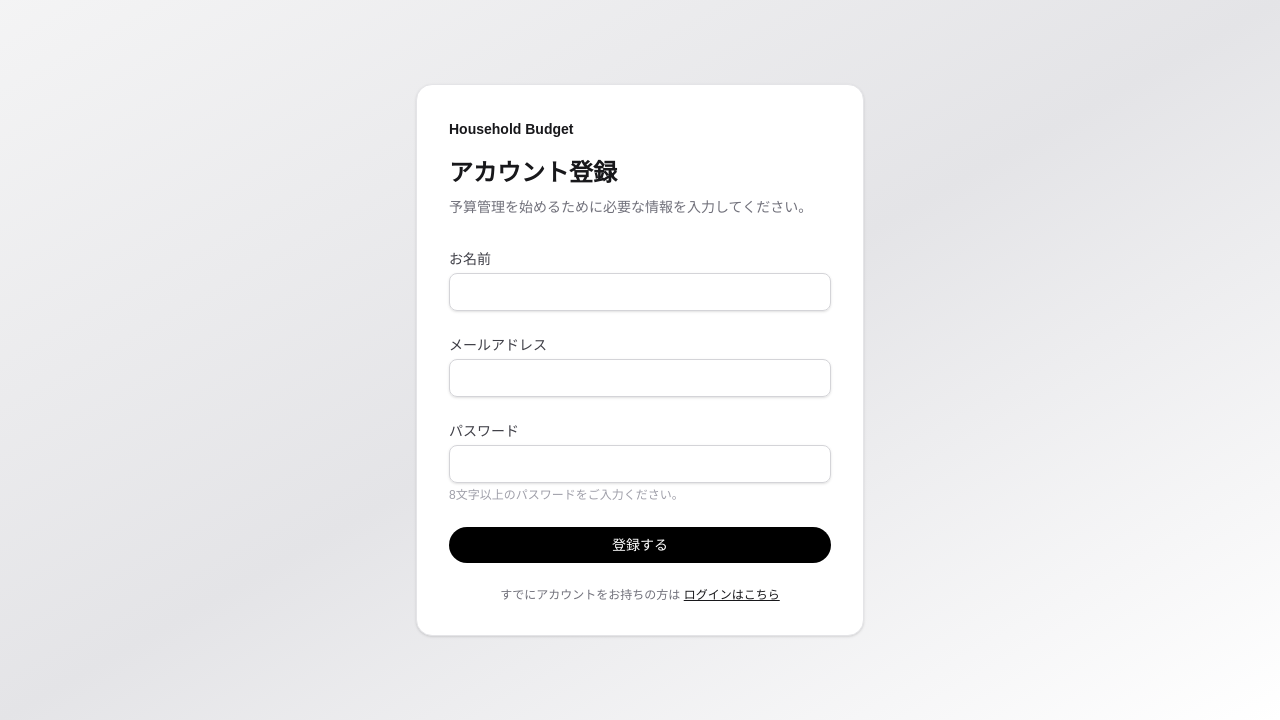
RegisterPage › shows completion message after successful registration
Step 1. Type "山田 太郎" into the field labelled "お名前" → (640, 292), box [449,273,831,311]
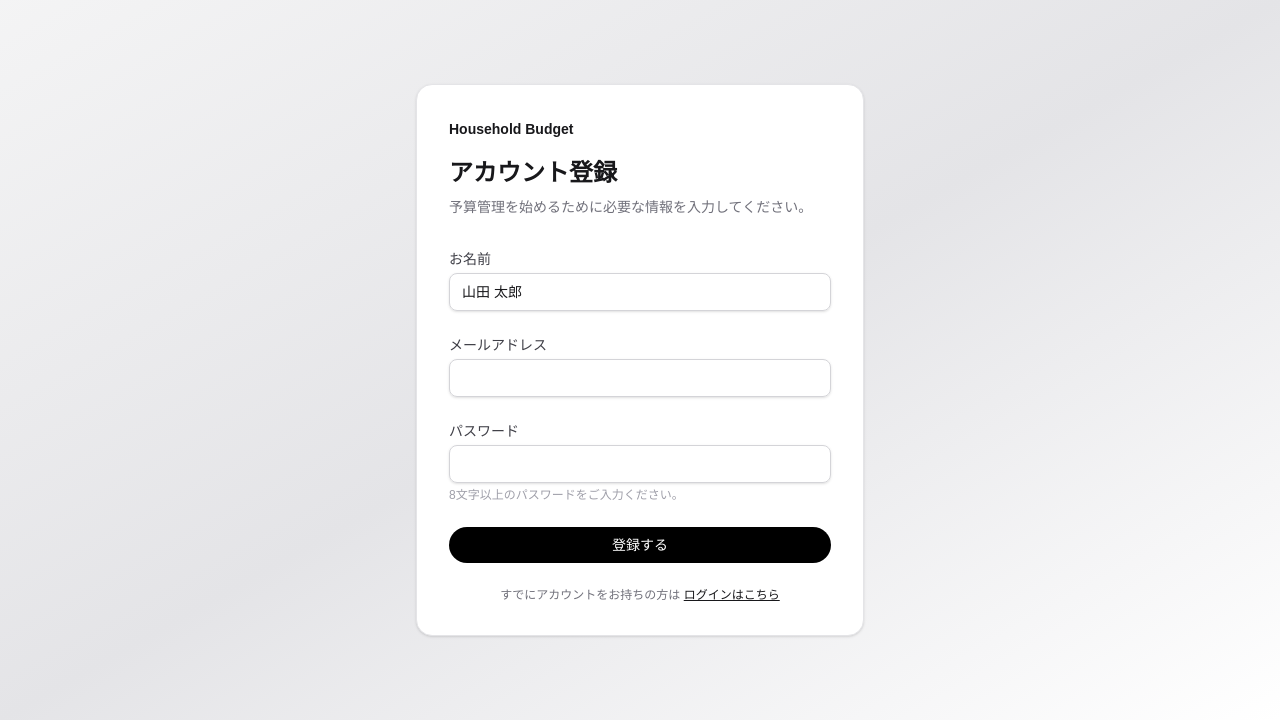
Step 2. Type "yamada@example.com" into the field labelled "メールアドレス" → (640, 378), box [449,359,831,397]
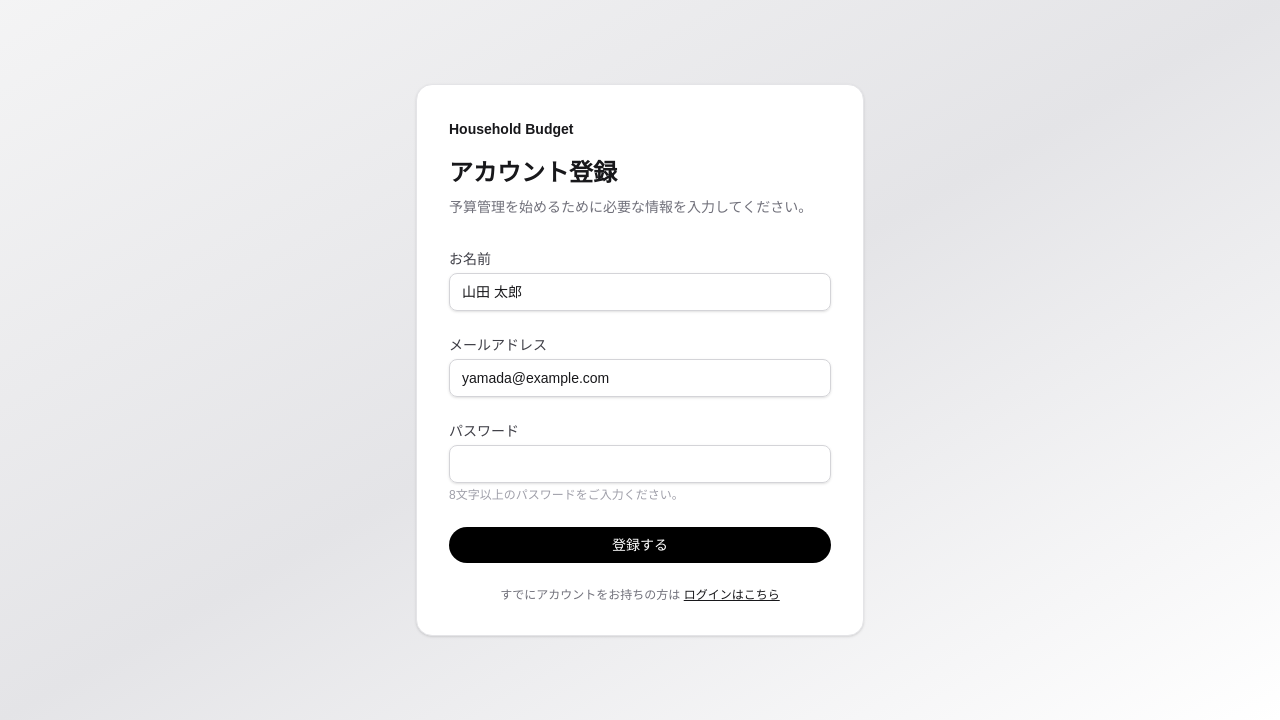
Step 3. Type "passw0rd!" into the password field labelled "パスワード" → (640, 464), box [449,445,831,483]
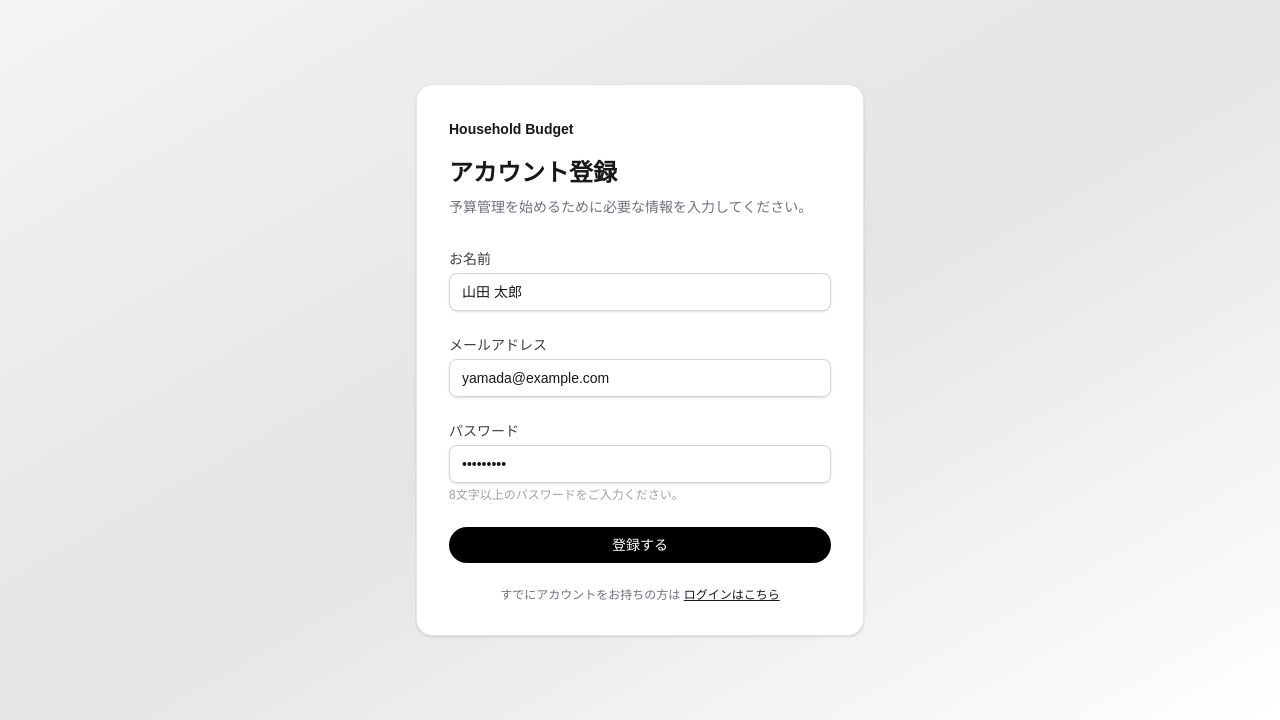
Step 4. Submit the form "登録する", box [449,249,831,563]
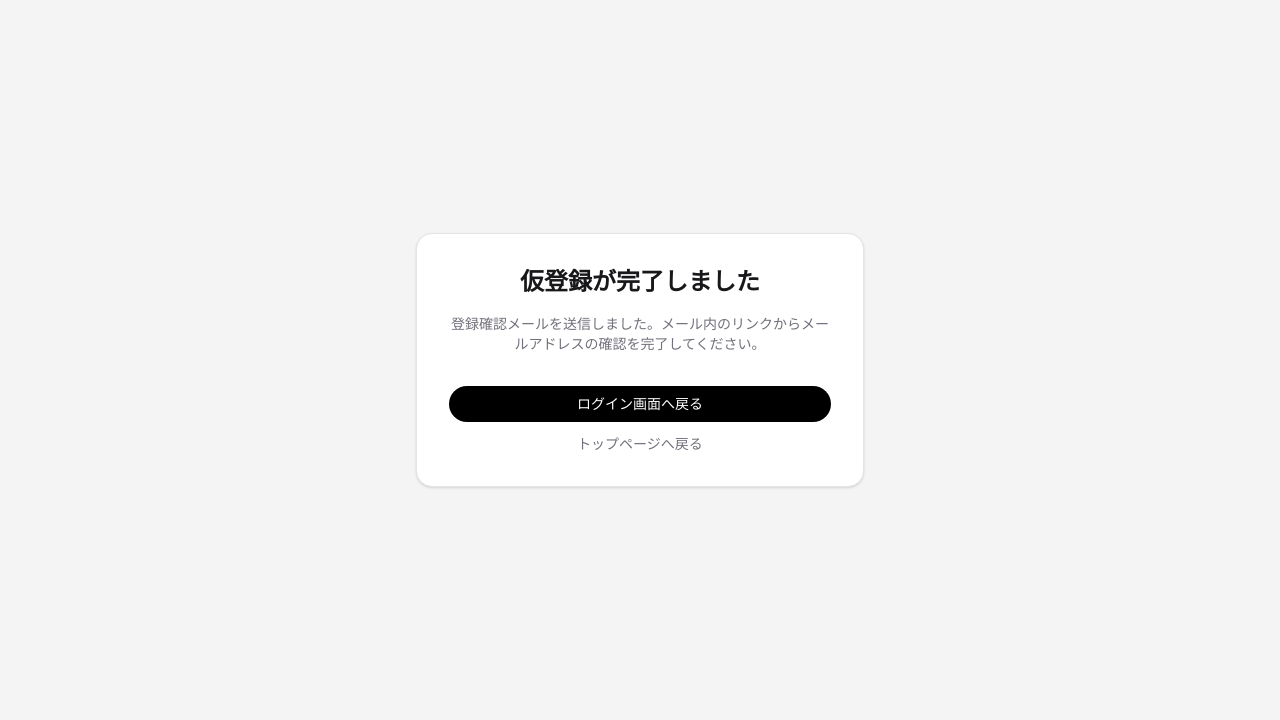
Result: the heading "仮登録が完了しました" is shown at [520,268,760,295]
